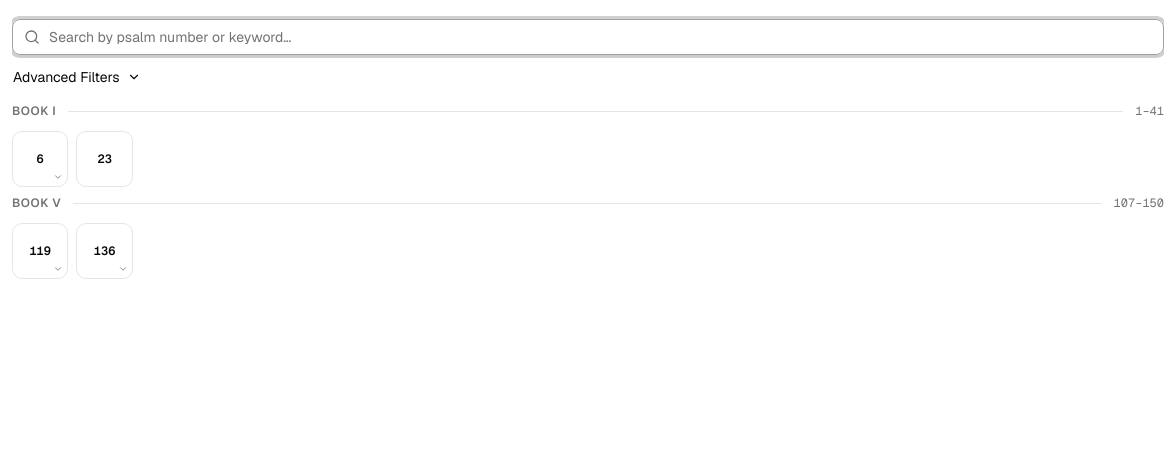
PsalmListingGrid — PSEL-01 collapse on load › still expands a group when clicked within the same session
Click the button "6": (40, 159) [12,131,68,187]
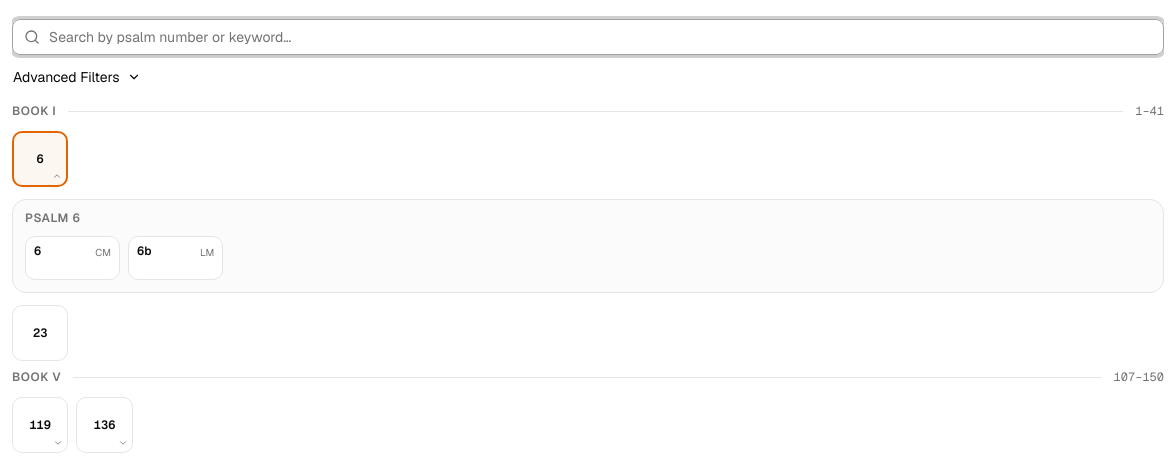
expect the button "6" is expanded: met, box [12,131,68,187]
